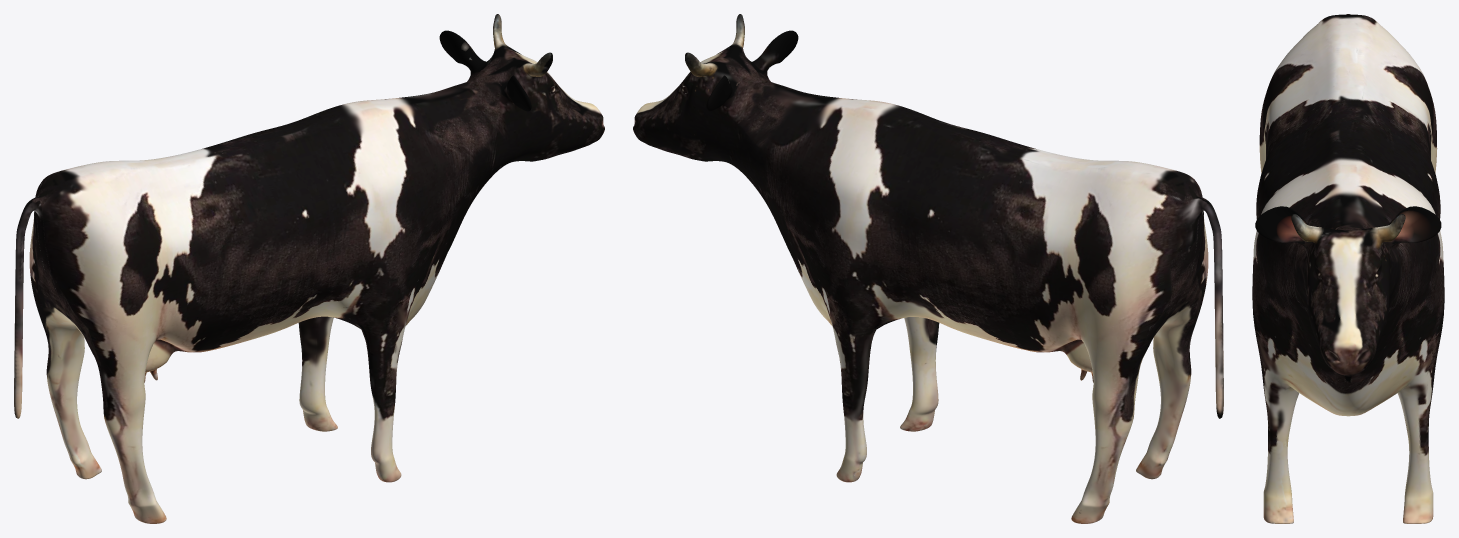
Rendered from my_cow_hp.fbx.
3 views of the same model, side by side, from view 1: azimuth 30°, elevation 25°; view 2: azimuth 150°, elevation 25°; view 3: azimuth 270°, elevation 25° (orthographic). The views are drawn at different scales.
Visible parts, largest first — view 1: Plane.005; view 2: Plane.005; view 3: Plane.005.
Boxes of the visible parts, x1,y1,x2,y2 form: Plane.005: [14, 14, 604, 523]; Plane.005: [633, 14, 1223, 523]; Plane.005: [1252, 14, 1444, 523].
Bounding box in the file's own units: 291 × 179 × 79.78.
Materials: 1 (1 with a texture image).
